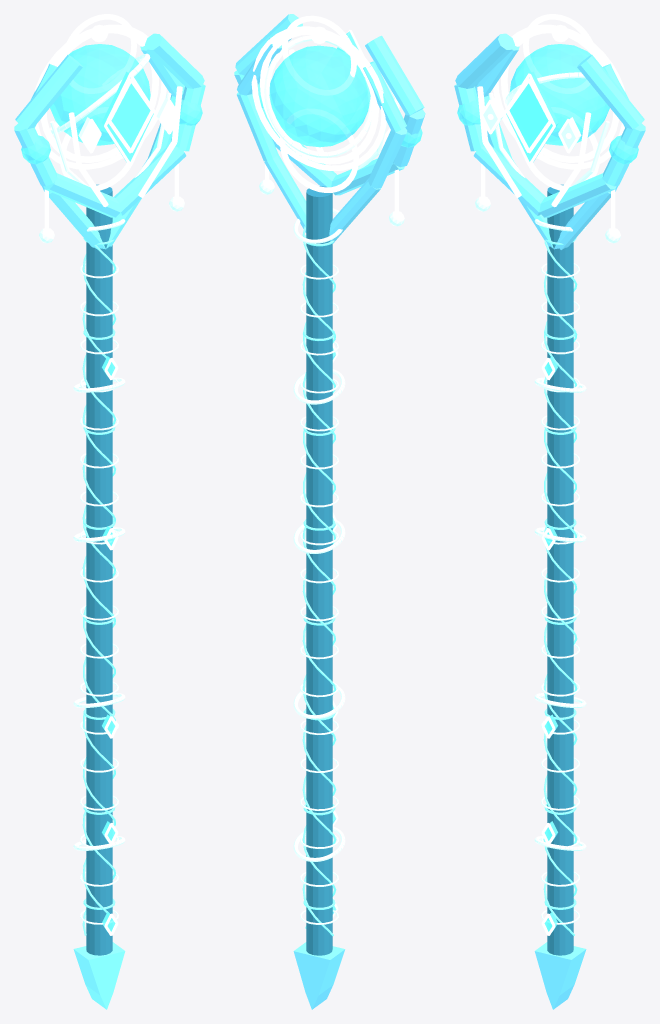
Rendered from bildmaster_staff_hologram_v2.glb.
3 views of the same model, side by side, from view 1: azimuth 30°, elevation 25°; view 2: azimuth 150°, elevation 25°; view 3: azimuth 330°, elevation 25° (orthographic).
Parts seen in each view (by area): view 1: staff_core, staff_metal, staff_white, staff_glass, staff_light, staff_aqua; view 2: staff_core, staff_metal, staff_glass, staff_white, staff_light, staff_aqua; view 3: staff_core, staff_metal, staff_white, staff_glass, staff_light, staff_aqua.
Part boxes in pixels (x1,y1,x2,y2): staff_core: (86, 184, 112, 955); staff_metal: (14, 33, 205, 1009); staff_white: (34, 14, 182, 935); staff_glass: (21, 44, 202, 931); staff_light: (39, 53, 184, 924); staff_aqua: (82, 238, 116, 935); staff_core: (306, 186, 332, 955); staff_metal: (234, 14, 425, 1009); staff_glass: (257, 31, 422, 914); staff_white: (251, 15, 399, 917); staff_light: (259, 35, 404, 924); staff_aqua: (302, 226, 336, 936); staff_core: (547, 184, 573, 955); staff_metal: (454, 33, 645, 1009); staff_white: (477, 14, 625, 935); staff_glass: (457, 44, 638, 931); staff_light: (475, 72, 620, 924); staff_aqua: (543, 237, 577, 935).
Bounding box in the file's own units: 0.3845 × 1.92 × 0.2068.
